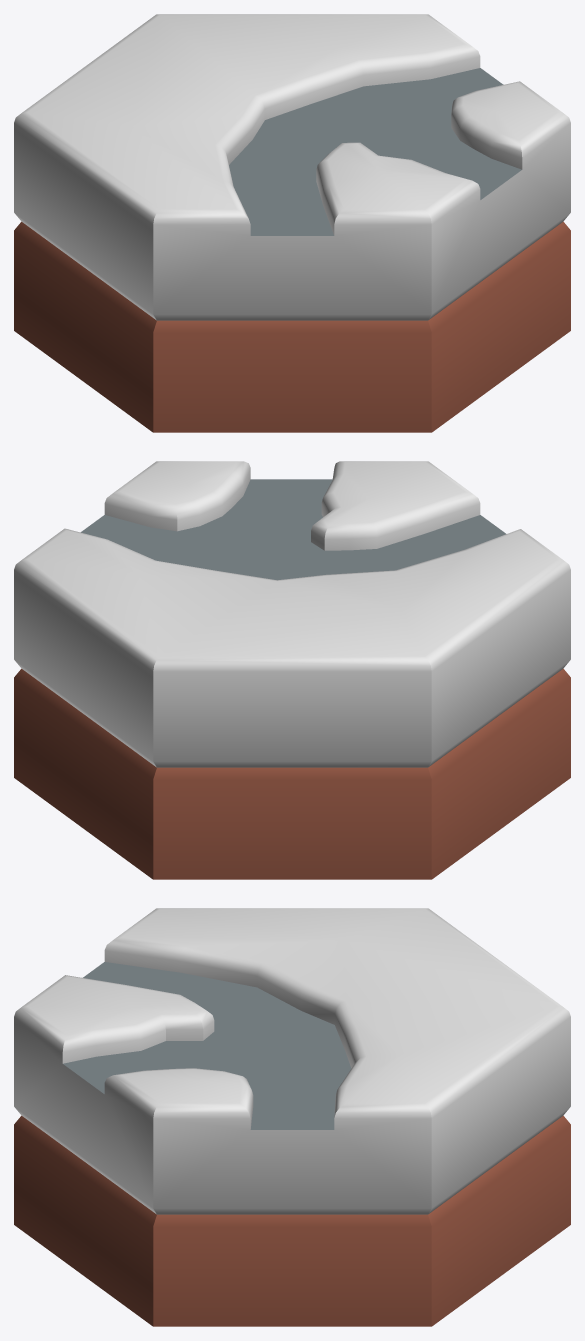
Rendered from hex_snow_roadH_detail.gltf.glb.
3 views of the same model, one above another, from view 1: azimuth 30°, elevation 25°; view 2: azimuth 150°, elevation 25°; view 3: azimuth 270°, elevation 25° (orthographic).
Visible parts, largest first — view 1: hex_snow_roadH_detail; view 2: hex_snow_roadH_detail; view 3: hex_snow_roadH_detail.
Part boxes in pixels (<box>): hex_snow_roadH_detail: <box>14,14,570,432</box>; hex_snow_roadH_detail: <box>14,461,570,879</box>; hex_snow_roadH_detail: <box>14,908,570,1326</box>.
Size of the model in its own units: 2 by 1 by 2.31.
